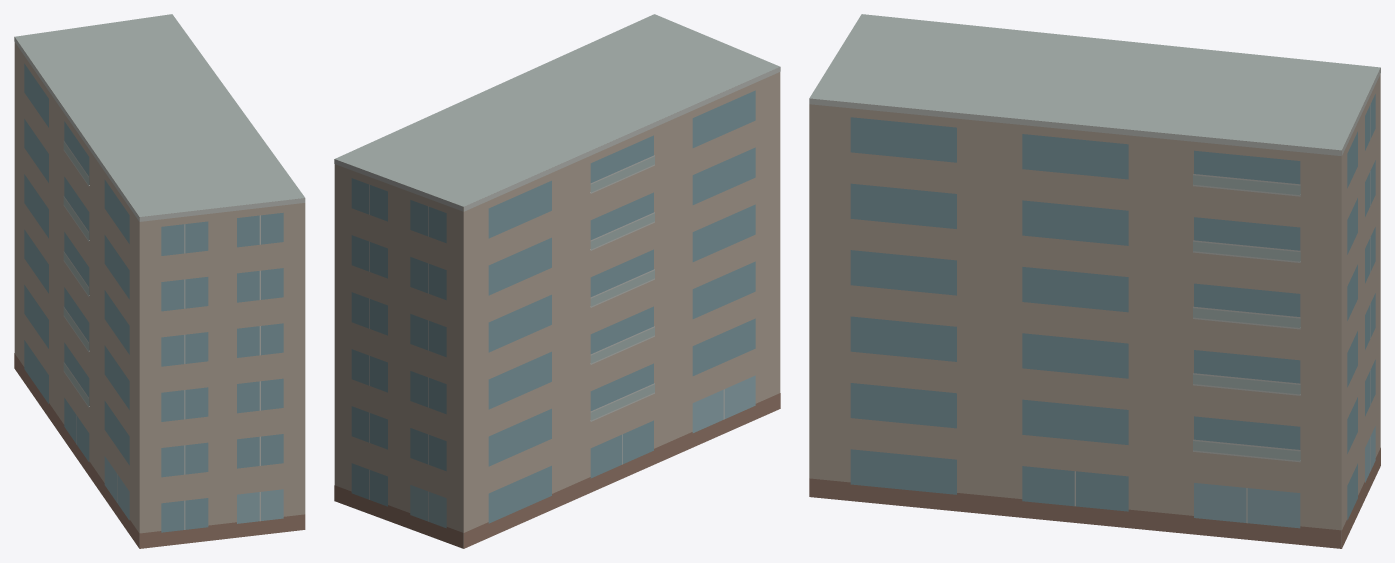
The model's file is survey-upis-32966685.glb.
The picture shows the model from 3 angles, left to right: view 1: azimuth 30°, elevation 25°; view 2: azimuth 150°, elevation 25°; view 3: azimuth 270°, elevation 25°; orthographic projection. The views are drawn at different scales.
Visible parts, largest first — view 1: survey-upis-32966685.tmp; view 2: survey-upis-32966685.tmp; view 3: survey-upis-32966685.tmp.
Part boxes in pixels (left/top/right/bottom): survey-upis-32966685.tmp: left=14, top=14, right=305, bottom=548; survey-upis-32966685.tmp: left=334, top=14, right=780, bottom=548; survey-upis-32966685.tmp: left=809, top=14, right=1380, bottom=548.
Size of the model in its own units: 12.27 by 16.7 by 21.72.
